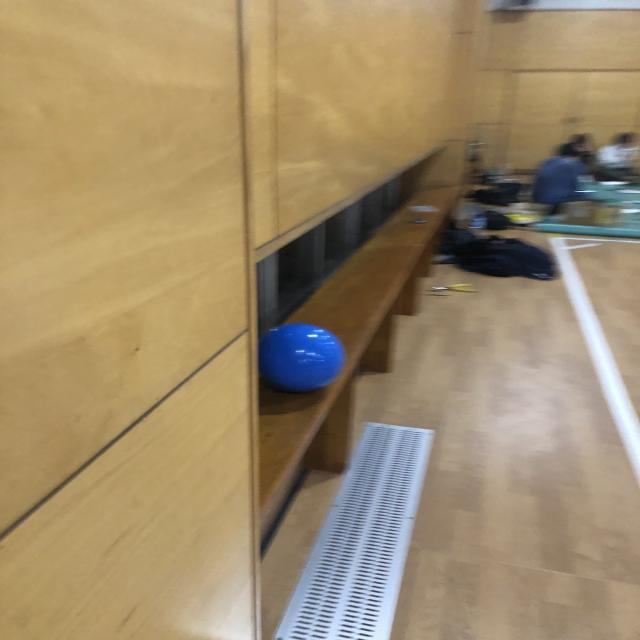blue_ball: (256, 318, 348, 396)
